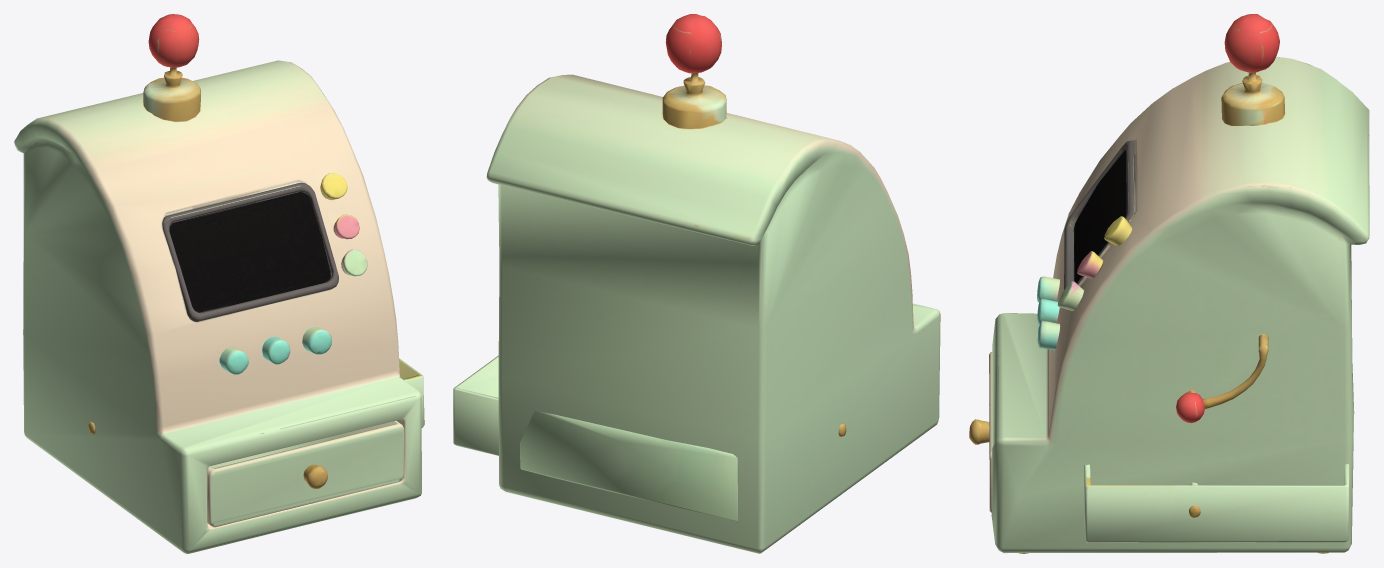
Rendered from prop_kitchen_register.glb.
3 renders of one model, left to right at view 1: azimuth 30°, elevation 25°; view 2: azimuth 150°, elevation 25°; view 3: azimuth 270°, elevation 25°, orthographic. The views are drawn at different scales.
Bounding box in the file's own units: 0.702 × 1 × 0.7681.
Materials: 1 (1 with a texture image).
